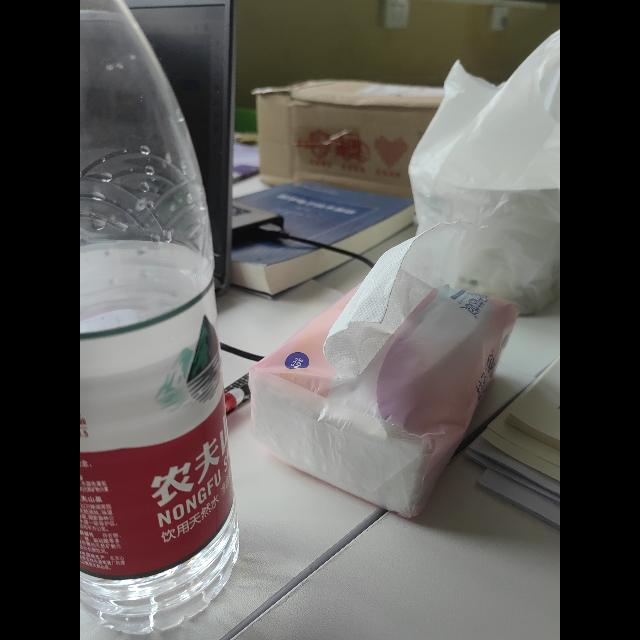trash: (80, 0, 239, 636)
